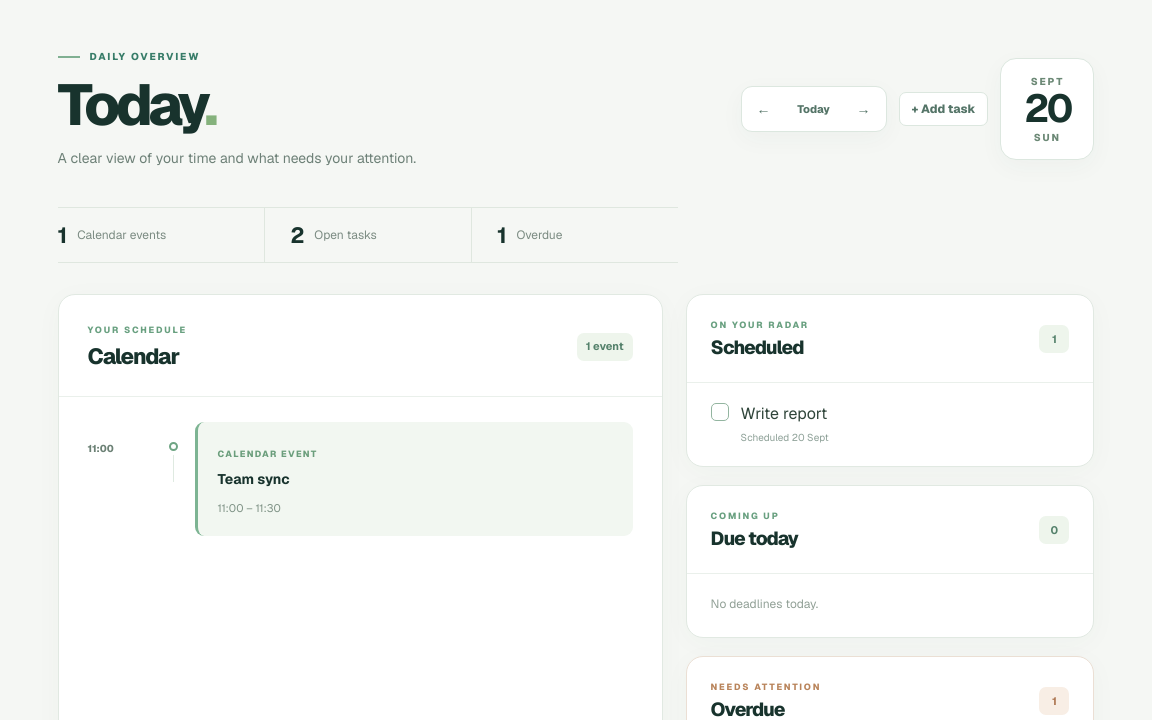
Task editing › opens a details panel when a task name is clicked and seeds current values
Click the button with aria-label "Edit task Write report" at (785, 414), box [741,402,829,426]
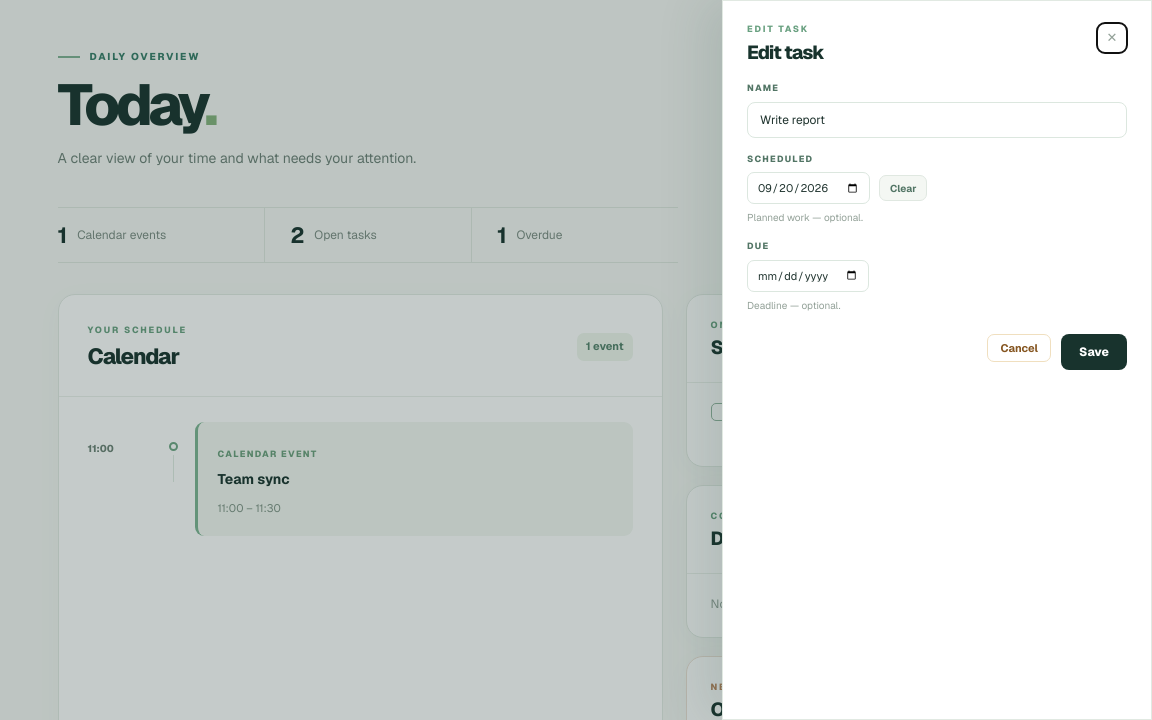
Now the dialog is shown, box [722,0,1151,719]
Now the field labelled "Name" holds "Write report", box [747,102,1127,138]
Now the date field labelled "Scheduled" holds "2026-09-20", box [747,172,870,204]
Click the button "Cancel" at (1019, 348), box [987,334,1051,362]
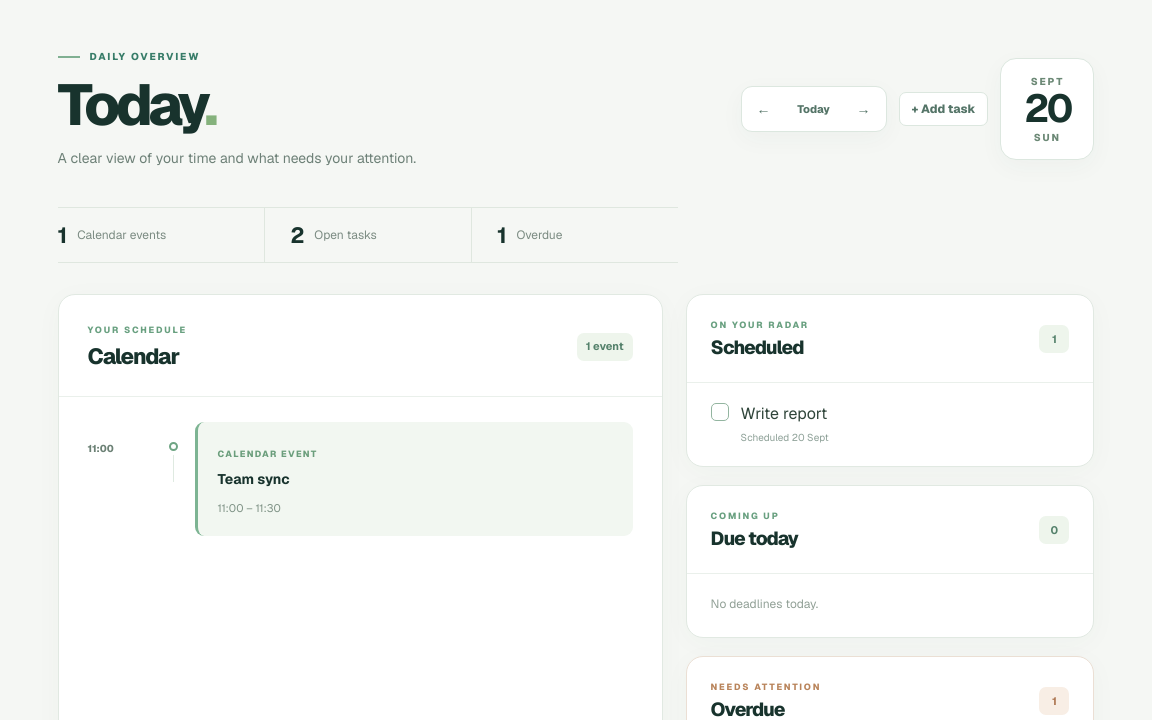
Now the dialog is gone
